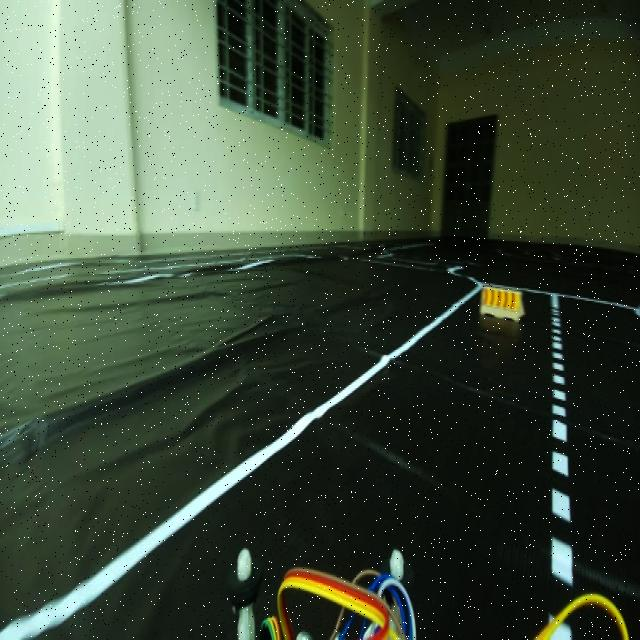roadblock: (480, 279, 528, 329)
